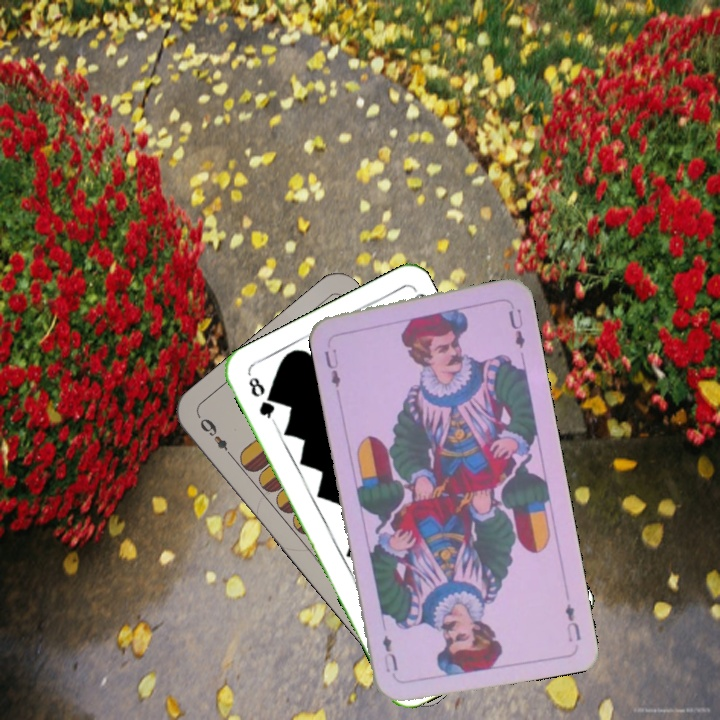E9: (195, 413, 237, 462)
EU: (320, 344, 343, 390), (561, 600, 584, 645)
G8: (244, 372, 278, 426)
